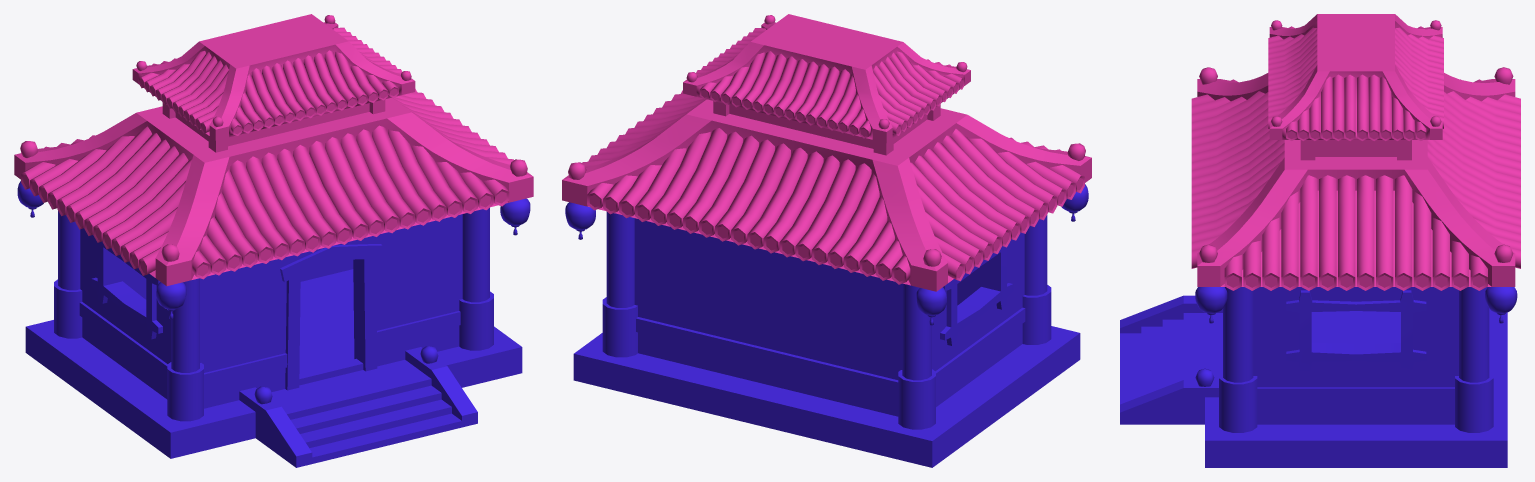
The model's file is Japanese house.fbx.
3 views of the same model, side by side, from view 1: azimuth 30°, elevation 25°; view 2: azimuth 150°, elevation 25°; view 3: azimuth 270°, elevation 25° (orthographic). The views are drawn at different scales.
Parts seen in each view (by area): view 1: walls, roof; view 2: roof, walls; view 3: roof, walls.
Boxes of the visible parts, x1,y1,x2,y2 form: walls: (17,181,530,467); roof: (14,14,533,286); roof: (562,14,1091,291); walls: (565,184,1088,467); roof: (1191,14,1520,290); walls: (1120,287,1517,467).
Size of the model in its own units: 303 by 245 by 265.
